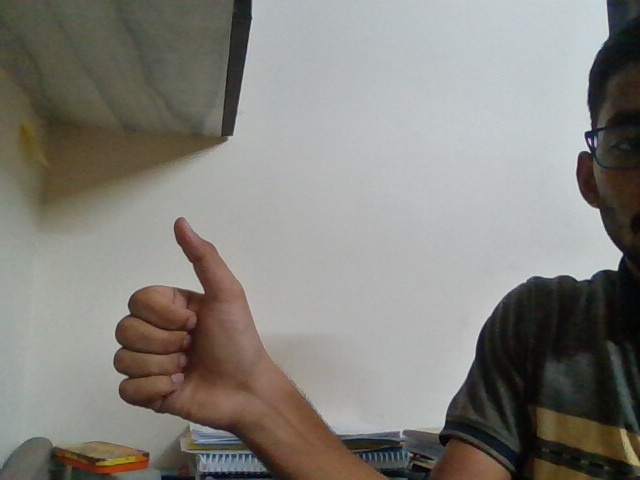Yes: (91, 205, 296, 458)
